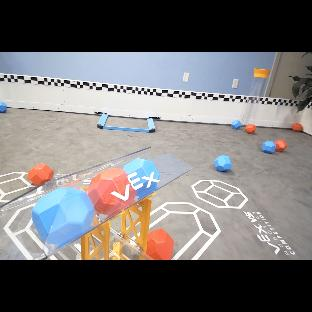V5_BLUE: (214, 155, 232, 172), (262, 141, 276, 153), (232, 120, 242, 129), (0, 102, 7, 113)
V5_RED: (147, 228, 174, 260), (27, 163, 54, 185), (274, 139, 287, 152), (245, 124, 256, 134), (292, 123, 303, 132), (222, 165, 222, 165)
blueingoal: (32, 187, 95, 246), (123, 158, 160, 200), (2, 105, 2, 105)
